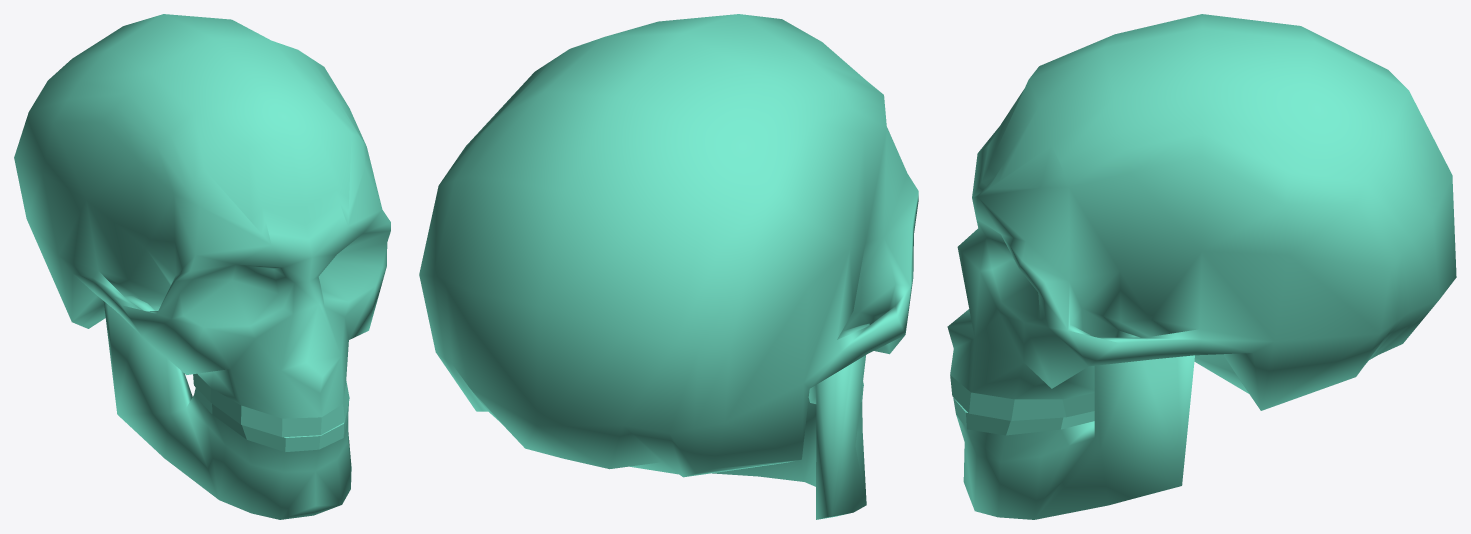
Rendered from Caveira.fbx.
3 views of the same model, side by side, from view 1: azimuth 30°, elevation 25°; view 2: azimuth 150°, elevation 25°; view 3: azimuth 270°, elevation 25° (orthographic). The views are drawn at different scales.
Visible parts, largest first — view 1: Caveira Boca Aberta; view 2: Caveira Boca Aberta; view 3: Caveira Boca Aberta.
Boxes of the visible parts, bbox=[...] form: Caveira Boca Aberta: bbox=[14, 14, 390, 519]; Caveira Boca Aberta: bbox=[419, 14, 918, 519]; Caveira Boca Aberta: bbox=[947, 14, 1456, 519].
Bounding box in the file's own units: 147 × 214 × 211.
